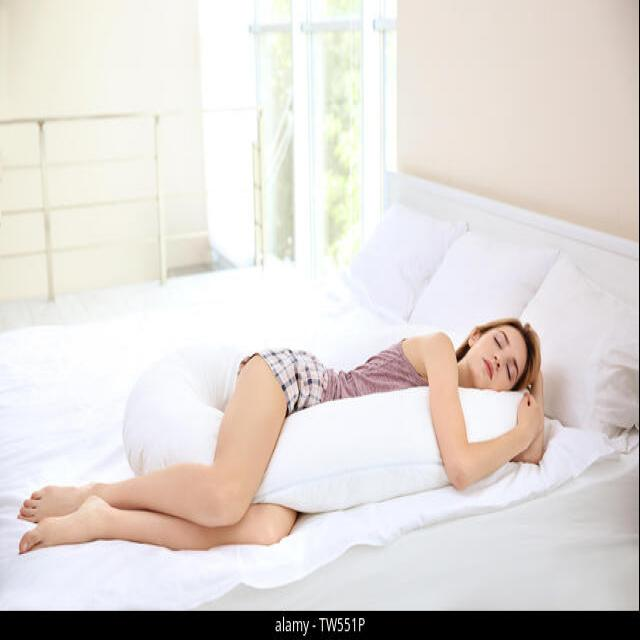people: (15, 303, 551, 567)
